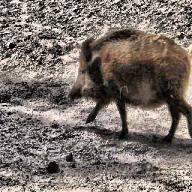boar: (67, 27, 192, 144)
